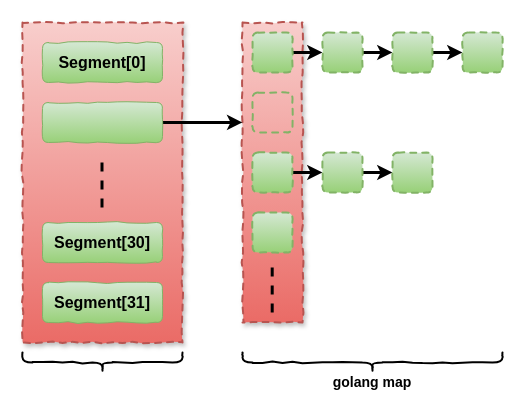
Image size: 520x416. Some labels were removed from this diagram. The centre of each missing label's shape, as x and y in pixels:
"segment locking" goes at (102,362).
"Segment[1]" goes at (102,122).
